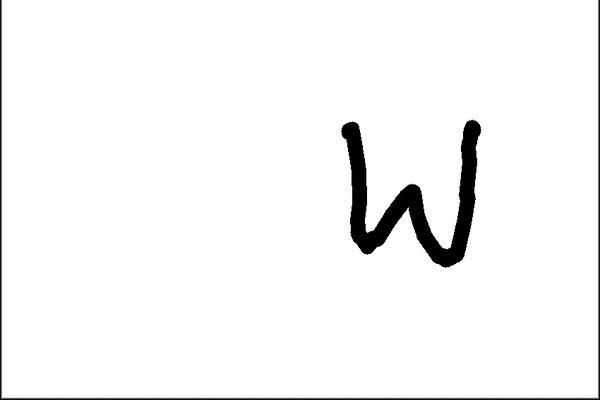w: (321, 94, 495, 281)
